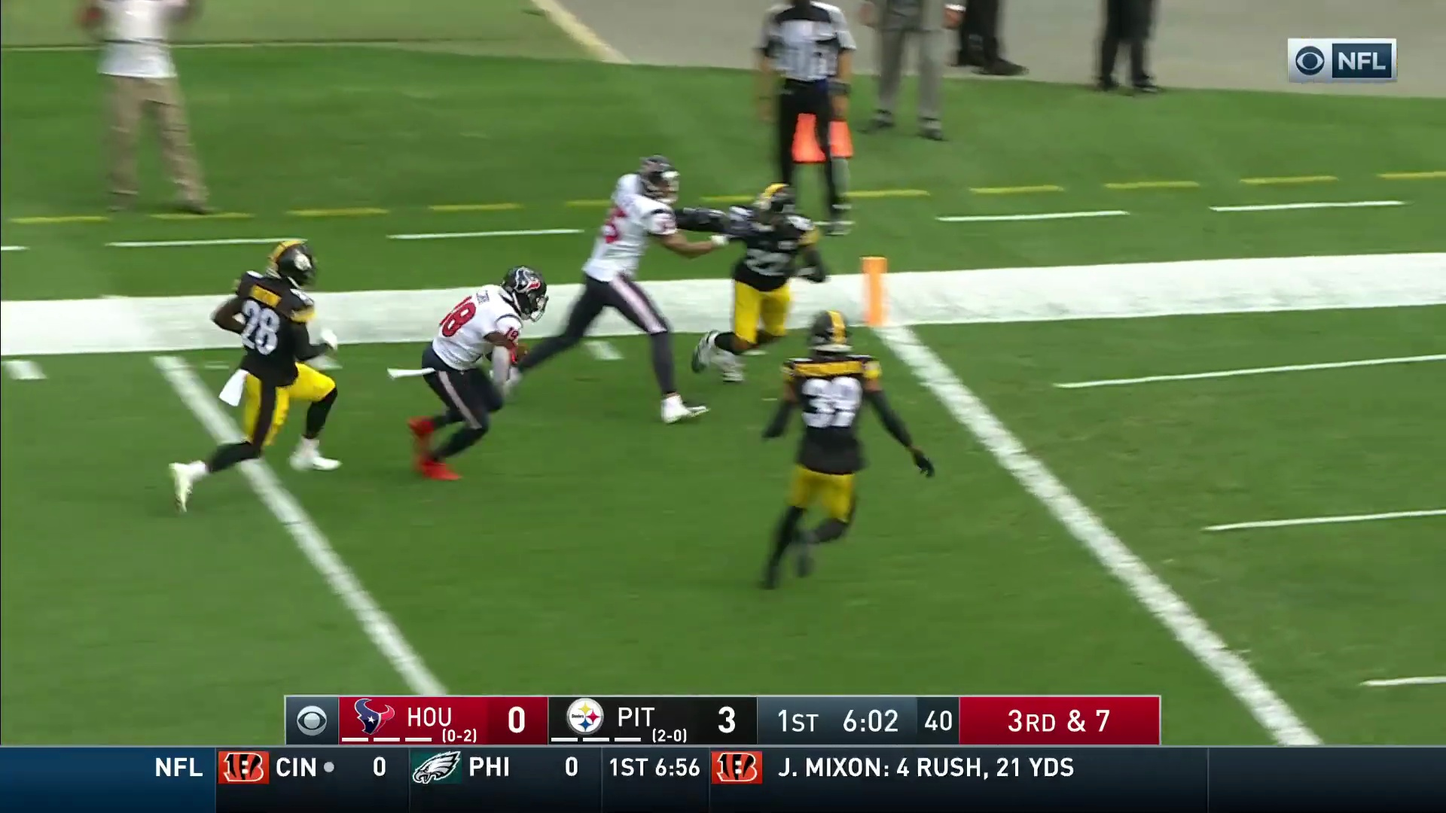Player: (763, 311, 867, 580), (97, 8, 203, 205)
